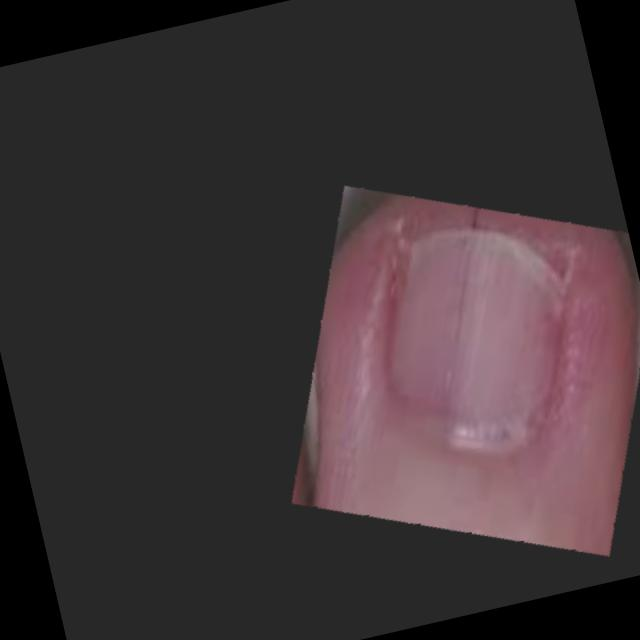Nail: (387, 225, 564, 441)
